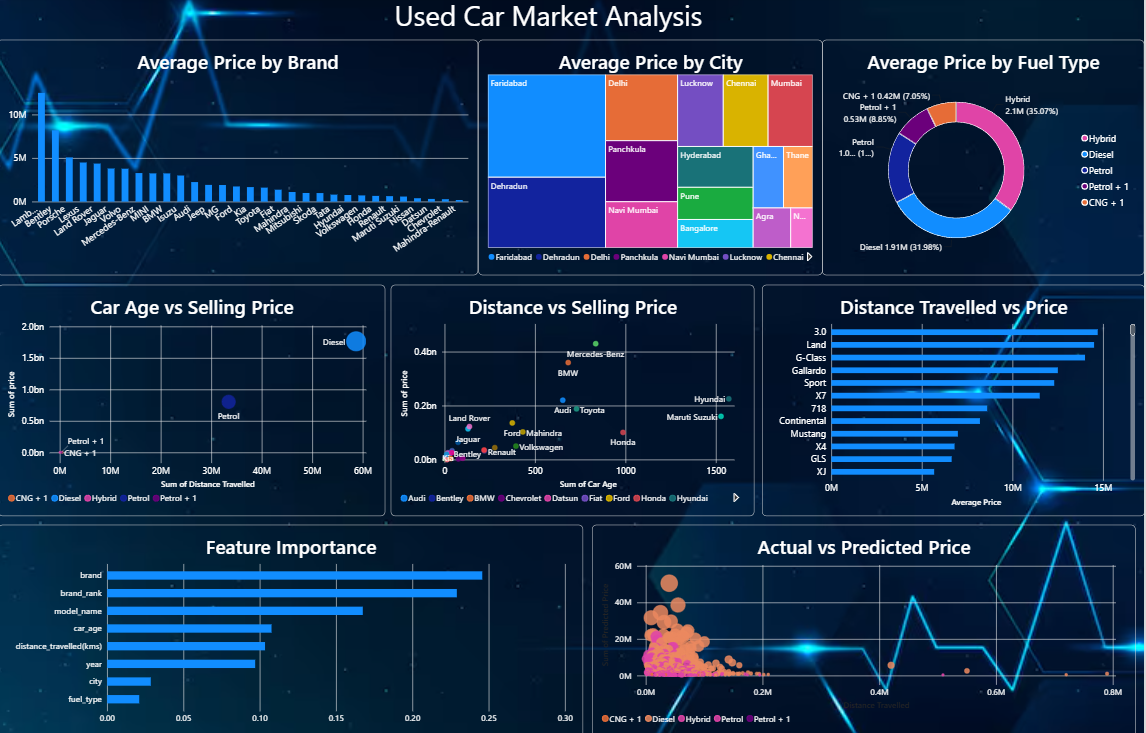

What the dashboard file says about the page in this screenshot:
{"tool":"powerbi","page":{"name":"Page 2","canvas":[2000,1300],"ordinal":1},"visuals":[{"type":"textbox","box":[517.2,0,889.5,106],"z":0},{"type":"clusteredColumnChart","title":"Average Price by Brand","fields":{"Category":["Final_Car_Price_Prediction.brand"],"Y":["Final_Car_Price_Prediction.Average Price"]},"box":[0,76.6,838.6,410.3],"z":1000},{"type":"donutChart","title":"Average Price by Fuel Type","fields":{"Category":["Final_Car_Price_Prediction.fuel_type"],"Y":["Final_Car_Price_Prediction.Average Price"]},"box":[1438.3,76.6,561.3,410.3],"z":2000},{"type":"treemap","title":"Average Price by City","fields":{"Group":["Final_Car_Price_Prediction.city"],"Values":["Final_Car_Price_Prediction.Average Price"]},"box":[838.6,76.6,599.6,410.3],"z":3000},{"type":"scatterChart","title":"Car Age vs Selling Price","fields":{"X":["Sum(Final_Car_Price_Prediction.Distance Travelled)"],"Y":["Sum(Final_Car_Price_Prediction.price)"],"Series":["Final_Car_Price_Prediction.fuel_type"],"Size":["Sum(Final_Car_Price_Prediction.price)"]},"box":[2.3,502.7,674,403.5],"z":4000},{"type":"scatterChart","title":"Distance vs Selling Price","fields":{"X":["Sum(Final_Car_Price_Prediction.Car Age)"],"Y":["Sum(Final_Car_Price_Prediction.price)"],"Series":["Final_Car_Price_Prediction.brand"]},"box":[685.3,502.7,633.5,403.5],"z":5000},{"type":"clusteredBarChart","title":"Distance Travelled vs Price","fields":{"Category":["Final_Car_Price_Prediction.model_name"],"Y":["Final_Car_Price_Prediction.Average Price"]},"box":[1332.3,502.7,667.3,403.5],"z":6000},{"type":"clusteredBarChart","title":"Feature Importance","fields":{"Category":["feature_importance.Feature"],"Y":["Sum(feature_importance.Importance)"]},"box":[2.3,922,1019,369.7],"z":7000},{"type":"scatterChart","title":"Actual vs Predicted Price","fields":{"Series":["Final_Car_Price_Prediction.fuel_type"],"Size":["Sum(Final_Car_Price_Prediction.price)"],"Y":["Sum(Final_Car_Price_Prediction.Predicted Price)"],"X":["Final_Car_Price_Prediction.Distance Travelled"]},"box":[1037,922,946.8,369.7],"z":8000}]}

Visuals, with their boxes in screenshot pixels (x1, y1, x2, y2), scaled from the page's 2000x1300 canvas onto the 1146x733 screenshot:
textbox: 296 0 806 60
"Average Price by Brand" clusteredColumnChart: 0 43 481 275
"Average Price by Fuel Type" donutChart: 824 43 1145 275
"Average Price by City" treemap: 481 43 824 275
"Car Age vs Selling Price" scatterChart: 1 283 388 511
"Distance vs Selling Price" scatterChart: 393 283 756 511
"Distance Travelled vs Price" clusteredBarChart: 763 283 1145 511
"Feature Importance" clusteredBarChart: 1 520 585 728
"Actual vs Predicted Price" scatterChart: 594 520 1137 728
